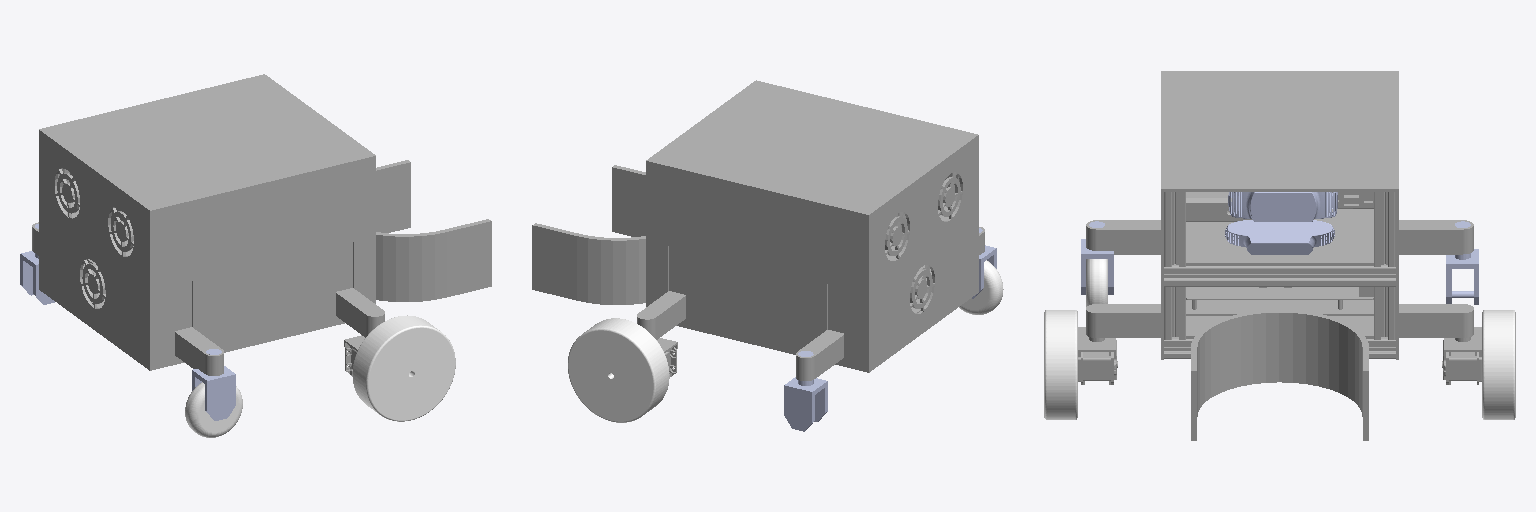
The robot description file, URDF, robot "4wheel_behindnowheel":
<?xml version="1.0" encoding="utf-8"?>
<!-- This URDF was automatically created by SolidWorks to URDF Exporter! Originally created by [author] ([email redacted]) 
     Commit Version: 1.5.1-0-g916b5db  Build Version: 1.5.7152.31018
     For more information, please see http://wiki.ros.org/sw_urdf_exporter -->
<robot
  name="4wheel_behindnowheel">
  <link
    name="base_link">
    <inertial>
      <origin
        xyz="-0.015791268345538 0.000885138044595091 0.0685678092687935"
        rpy="0 0 0" />
      <mass
        value="5.32485366509135" />
      <inertia
        ixx="0.0149048926646328"
        ixy="-1.47975198124448E-06"
        ixz="-8.06521337681199E-06"
        iyy="0.0219378727233068"
        iyz="-4.01751561827566E-06"
        izz="0.0232029020939231" />
    </inertial>
    <visual>
      <origin
        xyz="0 0 0"
        rpy="0 0 0" />
      <geometry>
        <mesh
          filename="package://4wheel_behindnowheel/meshes/base_link.STL" />
      </geometry>
      <material
        name="">
        <color
          rgba="0.752941176470588 0.752941176470588 0.752941176470588 1" />
      </material>
    </visual>
    <collision>
      <origin
        xyz="0 0 0"
        rpy="0 0 0" />
      <geometry>
        <mesh
          filename="package://4wheel_behindnowheel/meshes/base_link.STL" />
      </geometry>
    </collision>
  </link>
  <link
    name="right_front_suspension">
    <inertial>
      <origin
        xyz="0.072447 -0.031683 0.02534"
        rpy="0 0 0" />
      <mass
        value="0.26437" />
      <inertia
        ixx="3.2075E-05"
        ixy="1.4412E-07"
        ixz="6.3085E-08"
        iyy="6.227E-05"
        iyz="-2.0189E-07"
        izz="6.2852E-05" />
    </inertial>
    <visual>
      <origin
        xyz="0 0 0"
        rpy="0 0 0" />
      <geometry>
        <mesh
          filename="package://4wheel_behindnowheel/meshes/right_front_suspension.STL" />
      </geometry>
      <material
        name="">
        <color
          rgba="0.75294 0.75294 0.75294 1" />
      </material>
    </visual>
    <collision>
      <origin
        xyz="0 0 0"
        rpy="0 0 0" />
      <geometry>
        <mesh
          filename="package://4wheel_behindnowheel/meshes/right_front_suspension.STL" />
      </geometry>
    </collision>
  </link>
  <joint
    name="right_front_suspension"
    type="prismatic">
    <origin
      xyz="0.11437 -0.21292 0.036427"
      rpy="2.834 0 1.5708" />
    <parent
      link="base_link" />
    <child
      link="right_front_suspension" />
    <axis
      xyz="0 0.3028 -0.95305" />
    <limit
      lower="0"
      upper="0"
      effort="0"
      velocity="0" />
  </joint>
  <link
    name="right_front_wheel">
    <inertial>
      <origin
        xyz="0.014171 0 -2.7756E-17"
        rpy="0 0 0" />
      <mass
        value="0.23877" />
      <inertia
        ixx="0.00029907"
        ixy="2.5831E-24"
        ixz="-8.1395E-23"
        iyy="0.00016737"
        iyz="-2.5411E-21"
        izz="0.00016737" />
    </inertial>
    <visual>
      <origin
        xyz="0 0 0"
        rpy="0 0 0" />
      <geometry>
        <mesh
          filename="package://4wheel_behindnowheel/meshes/right_front_wheel.STL" />
      </geometry>
      <material
        name="">
        <color
          rgba="1 1 1 1" />
      </material>
    </visual>
    <collision>
      <origin
        xyz="0 0 0"
        rpy="0 0 0" />
      <geometry>
        <mesh
          filename="package://4wheel_behindnowheel/meshes/right_front_wheel.STL" />
      </geometry>
    </collision>
  </link>
  <joint
    name="right_front_wheel"
    type="continuous">
    <origin
      xyz="0 -0.028286 0.058405"
      rpy="-1.1911 0 0" />
    <parent
      link="right_front_suspension" />
    <child
      link="right_front_wheel" />
    <axis
      xyz="1 0 0" />
    <limit
      effort="3.1"
      velocity="7" />
  </joint>
  <link
    name="left_front_suspension">
    <inertial>
      <origin
        xyz="0.066688 -0.025617 0.027258"
        rpy="0 0 0" />
      <mass
        value="0.26437" />
      <inertia
        ixx="3.2075E-05"
        ixy="-1.4412E-07"
        ixz="-6.3085E-08"
        iyy="6.227E-05"
        iyz="-2.0189E-07"
        izz="6.2852E-05" />
    </inertial>
    <visual>
      <origin
        xyz="0 0 0"
        rpy="0 0 0" />
      <geometry>
        <mesh
          filename="package://4wheel_behindnowheel/meshes/left_front_suspension.STL" />
      </geometry>
      <material
        name="">
        <color
          rgba="0.75294 0.75294 0.75294 1" />
      </material>
    </visual>
    <collision>
      <origin
        xyz="0 0 0"
        rpy="0 0 0" />
      <geometry>
        <mesh
          filename="package://4wheel_behindnowheel/meshes/left_front_suspension.STL" />
      </geometry>
    </collision>
  </link>
  <joint
    name="left_front_suspension"
    type="prismatic">
    <origin
      xyz="0.075688 0.20716 0.036427"
      rpy="2.834 0 -1.5708" />
    <parent
      link="base_link" />
    <child
      link="left_front_suspension" />
    <axis
      xyz="0 0.3028 -0.95305" />
    <limit
      lower="0"
      upper="0"
      effort="0"
      velocity="0" />
  </joint>
  <link
    name="left_front_wheel">
    <inertial>
      <origin
        xyz="-0.008411 0 0"
        rpy="0 0 0" />
      <mass
        value="0.23877" />
      <inertia
        ixx="0.00029907"
        ixy="4.2358E-22"
        ixz="8.4804E-23"
        iyy="0.00016737"
        iyz="6.7763E-21"
        izz="0.00016737" />
    </inertial>
    <visual>
      <origin
        xyz="0 0 0"
        rpy="0 0 0" />
      <geometry>
        <mesh
          filename="package://4wheel_behindnowheel/meshes/left_front_wheel.STL" />
      </geometry>
      <material
        name="">
        <color
          rgba="1 1 1 1" />
      </material>
    </visual>
    <collision>
      <origin
        xyz="0 0 0"
        rpy="0 0 0" />
      <geometry>
        <mesh
          filename="package://4wheel_behindnowheel/meshes/left_front_wheel.STL" />
      </geometry>
    </collision>
  </link>
  <joint
    name="left_front_wheel"
    type="continuous">
    <origin
      xyz="0 -0.047479 0.052309"
      rpy="-2.076 0 3.1416" />
    <parent
      link="left_front_suspension" />
    <child
      link="left_front_wheel" />
    <axis
      xyz="1 0 0" />
    <limit
      effort="3.1"
      velocity="7" />
  </joint>
  <link
    name="right_back_suspension">
    <inertial>
      <origin
        xyz="0.075402 -0.0095357 -0.022201"
        rpy="0 0 0" />
      <mass
        value="0.19701" />
      <inertia
        ixx="1.688E-05"
        ixy="3.707E-21"
        ixz="-6.4068E-22"
        iyy="5.0218E-05"
        iyz="1.0509E-06"
        izz="4.7245E-05" />
    </inertial>
    <visual>
      <origin
        xyz="0 0 0"
        rpy="0 0 0" />
      <geometry>
        <mesh
          filename="package://4wheel_behindnowheel/meshes/right_back_suspension.STL" />
      </geometry>
      <material
        name="">
        <color
          rgba="0.75294 0.75294 0.75294 1" />
      </material>
    </visual>
    <collision>
      <origin
        xyz="0 0 0"
        rpy="0 0 0" />
      <geometry>
        <mesh
          filename="package://4wheel_behindnowheel/meshes/right_back_suspension.STL" />
      </geometry>
    </collision>
  </link>
  <joint
    name="right_back_suspension"
    type="prismatic">
    <origin
      xyz="-0.07269 -0.20716 -0.0087739"
      rpy="2.834 0 1.5708" />
    <parent
      link="base_link" />
    <child
      link="right_back_suspension" />
    <axis
      xyz="0 0.3028 -0.95305" />
    <limit
      lower="0"
      upper="0"
      effort="0"
      velocity="0" />
  </joint>
  <link
    name="right_back_caster">
    <inertial>
      <origin
        xyz="4.0063E-07 -0.0037032 0"
        rpy="0 0 0" />
      <mass
        value="0.020987" />
      <inertia
        ixx="7.3202E-06"
        ixy="2.1294E-10"
        ixz="4.3949E-23"
        iyy="3.6659E-06"
        iyz="-4.815E-22"
        izz="8.246E-06" />
    </inertial>
    <visual>
      <origin
        xyz="0 0 0"
        rpy="0 0 0" />
      <geometry>
        <mesh
          filename="package://4wheel_behindnowheel/meshes/right_back_caster.STL" />
      </geometry>
      <material
        name="">
        <color
          rgba="0.79216 0.81961 0.93333 1" />
      </material>
    </visual>
    <collision>
      <origin
        xyz="0 0 0"
        rpy="0 0 0" />
      <geometry>
        <mesh
          filename="package://4wheel_behindnowheel/meshes/right_back_caster.STL" />
      </geometry>
    </collision>
  </link>
  <joint
    name="right_back_caster"
    type="continuous">
    <origin
      xyz="0.0411609911350767 -0.0150684419408277 -0.004787494193096"
      rpy="-1.2631660489123 0 0" />
    <parent
      link="right_back_suspension" />
    <child
      link="right_back_caster" />
    <axis
      xyz="0 1 0" />
  </joint>
  <link
    name="right_back_wheel">
    <inertial>
      <origin
        xyz="1.2669E-05 0 0"
        rpy="0 0 0" />
      <mass
        value="0.052036" />
      <inertia
        ixx="2.1966E-05"
        ixy="-1.3475E-38"
        ixz="-2.3698E-38"
        iyy="1.254E-05"
        iyz="3.3403E-40"
        izz="1.254E-05" />
    </inertial>
    <visual>
      <origin
        xyz="0 0 0"
        rpy="0 0 0" />
      <geometry>
        <mesh
          filename="package://4wheel_behindnowheel/meshes/right_back_wheel.STL" />
      </geometry>
      <material
        name="">
        <color
          rgba="1 1 1 1" />
      </material>
    </visual>
    <collision>
      <origin
        xyz="0 0 0"
        rpy="0 0 0" />
      <geometry>
        <mesh
          filename="package://4wheel_behindnowheel/meshes/right_back_wheel.STL" />
      </geometry>
    </collision>
  </link>
  <joint
    name="right_back_wheel"
    type="continuous">
    <origin
      xyz="0 -0.029028 0"
      rpy="0 0 0" />
    <parent
      link="right_back_caster" />
    <child
      link="right_back_wheel" />
    <axis
      xyz="1 0 0" />
  </joint>
  <link
    name="left_back_suspension">
    <inertial>
      <origin
        xyz="0.075402 -0.0095357 -0.022201"
        rpy="0 0 0" />
      <mass
        value="0.19701" />
      <inertia
        ixx="1.688E-05"
        ixy="1.1945E-20"
        ixz="1.0411E-20"
        iyy="5.0218E-05"
        iyz="1.0509E-06"
        izz="4.7245E-05" />
    </inertial>
    <visual>
      <origin
        xyz="0 0 0"
        rpy="0 0 0" />
      <geometry>
        <mesh
          filename="package://4wheel_behindnowheel/meshes/left_back_suspension.STL" />
      </geometry>
      <material
        name="">
        <color
          rgba="0.75294 0.75294 0.75294 1" />
      </material>
    </visual>
    <collision>
      <origin
        xyz="0 0 0"
        rpy="0 0 0" />
      <geometry>
        <mesh
          filename="package://4wheel_behindnowheel/meshes/left_back_suspension.STL" />
      </geometry>
    </collision>
  </link>
  <joint
    name="left_back_suspension"
    type="prismatic">
    <origin
      xyz="-0.10431 0.20716 -0.0087739"
      rpy="2.834 0 -1.5708" />
    <parent
      link="base_link" />
    <child
      link="left_back_suspension" />
    <axis
      xyz="0 0.3028 -0.95305" />
    <limit
      lower="0"
      upper="0"
      effort="0"
      velocity="0" />
  </joint>
  <link
    name="left_back_caster">
    <inertial>
      <origin
        xyz="3.6952E-07 -0.010637 0"
        rpy="0 0 0" />
      <mass
        value="0.022754" />
      <inertia
        ixx="9.8996E-06"
        ixy="2.3871E-10"
        ixz="-3.9352E-22"
        iyy="3.7156E-06"
        iyz="4.2404E-22"
        izz="1.0825E-05" />
    </inertial>
    <visual>
      <origin
        xyz="0 0 0"
        rpy="0 0 0" />
      <geometry>
        <mesh
          filename="package://4wheel_behindnowheel/meshes/left_back_caster.STL" />
      </geometry>
      <material
        name="">
        <color
          rgba="0.79216 0.81961 0.93333 1" />
      </material>
    </visual>
    <collision>
      <origin
        xyz="0 0 0"
        rpy="0 0 0" />
      <geometry>
        <mesh
          filename="package://4wheel_behindnowheel/meshes/left_back_caster.STL" />
      </geometry>
    </collision>
  </link>
  <joint
    name="left_back_caster"
    type="continuous">
    <origin
      xyz="0.0411609911350767 -0.0150684419408277 -0.00478749419309602"
      rpy="-1.87842660467749 0 3.14159265358979" />
    <parent
      link="left_back_suspension" />
    <child
      link="left_back_caster" />
    <axis
      xyz="0 1 0" />
  </joint>
  <link
    name="left_back_wheel">
    <inertial>
      <origin
        xyz="1.2669E-05 0 0"
        rpy="0 0 0" />
      <mass
        value="0.052036" />
      <inertia
        ixx="2.1966E-05"
        ixy="-1.3475E-38"
        ixz="-2.3698E-38"
        iyy="1.254E-05"
        iyz="3.3403E-40"
        izz="1.254E-05" />
    </inertial>
    <visual>
      <origin
        xyz="0 0 0"
        rpy="0 0 0" />
      <geometry>
        <mesh
          filename="package://4wheel_behindnowheel/meshes/left_back_wheel.STL" />
      </geometry>
      <material
        name="">
        <color
          rgba="1 1 1 1" />
      </material>
    </visual>
    <collision>
      <origin
        xyz="0 0 0"
        rpy="0 0 0" />
      <geometry>
        <mesh
          filename="package://4wheel_behindnowheel/meshes/left_back_wheel.STL" />
      </geometry>
    </collision>
  </link>
  <joint
    name="left_back_wheel"
    type="continuous">
    <origin
      xyz="0 -0.0390282868227122 0"
      rpy="0 0 0" />
    <parent
      link="left_back_caster" />
    <child
      link="left_back_wheel" />
    <axis
      xyz="1 0 0" />
  </joint>
  <link
    name="cam1">
    <inertial>
      <origin
        xyz="0.049836 0.061784 0.068723"
        rpy="0 0 0" />
      <mass
        value="0.043612" />
      <inertia
        ixx="4.2948E-06"
        ixy="-8.8548E-10"
        ixz="-1.0183E-09"
        iyy="2.2106E-05"
        iyz="2.1758E-08"
        izz="2.3571E-05" />
    </inertial>
    <visual>
      <origin
        xyz="0 0 0"
        rpy="0 0 0" />
      <geometry>
        <mesh
          filename="package://4wheel_behindnowheel/meshes/cam1.STL" />
      </geometry>
      <material
        name="">
        <color
          rgba="0.79216 0.81961 0.93333 1" />
      </material>
    </visual>
    <collision>
      <origin
        xyz="0 0 0"
        rpy="0 0 0" />
      <geometry>
        <mesh
          filename="package://4wheel_behindnowheel/meshes/cam1.STL" />
      </geometry>
    </collision>
  </link>
  <joint
    name="cam1"
    type="fixed">
    <origin
      xyz="0.022219 -0.049835 0.11022"
      rpy="2.3562 0 1.5708" />
    <parent
      link="base_link" />
    <child
      link="cam1" />
    <axis
      xyz="0 0 0" />
  </joint>
  <link
    name="cam2">
    <inertial>
      <origin
        xyz="0.051723 0.061784 0.068723"
        rpy="0 0 0" />
      <mass
        value="0.043612" />
      <inertia
        ixx="4.2948E-06"
        ixy="-8.8579E-10"
        ixz="-1.0181E-09"
        iyy="2.2106E-05"
        iyz="2.1758E-08"
        izz="2.3571E-05" />
    </inertial>
    <visual>
      <origin
        xyz="0 0 0"
        rpy="0 0 0" />
      <geometry>
        <mesh
          filename="package://4wheel_behindnowheel/meshes/cam2.STL" />
      </geometry>
      <material
        name="">
        <color
          rgba="0.79216 0.81961 0.93333 1" />
      </material>
    </visual>
    <collision>
      <origin
        xyz="0 0 0"
        rpy="0 0 0" />
      <geometry>
        <mesh
          filename="package://4wheel_behindnowheel/meshes/cam2.STL" />
      </geometry>
    </collision>
  </link>
  <joint
    name="cam2"
    type="prismatic">
    <origin
      xyz="0.046422 -0.048745 0.079504"
      rpy="1.5708 0 1.5708" />
    <parent
      link="base_link" />
    <child
      link="cam2" />
    <axis
      xyz="1 0 0" />
    <limit
      lower="0"
      upper="0"
      effort="0"
      velocity="0" />
  </joint>
  <link
    name="lidar">
    <inertial>
      <origin
        xyz="-0.077156 0.74443 -0.036403"
        rpy="0 0 0" />
      <mass
        value="0.073085" />
      <inertia
        ixx="1.9581E-05"
        ixy="-4.2839E-07"
        ixz="1.0393E-07"
        iyy="4.1418E-05"
        iyz="-9.4271E-09"
        izz="2.4125E-05" />
    </inertial>
    <visual>
      <origin
        xyz="0 0 0"
        rpy="0 0 0" />
      <geometry>
        <mesh
          filename="package://4wheel_behindnowheel/meshes/lidar.STL" />
      </geometry>
      <material
        name="">
        <color
          rgba="0.79216 0.81961 0.93333 1" />
      </material>
    </visual>
    <collision>
      <origin
        xyz="0 0 0"
        rpy="0 0 0" />
      <geometry>
        <mesh
          filename="package://4wheel_behindnowheel/meshes/lidar.STL" />
      </geometry>
    </collision>
  </link>
  <joint
    name="lidar"
    type="prismatic">
    <origin
      xyz="0.0019925 0.032539 -0.56169"
      rpy="1.5708 0 -3.1337" />
    <parent
      link="base_link" />
    <child
      link="lidar" />
    <axis
      xyz="0.0078706 0 -0.99997" />
    <limit
      lower="0"
      upper="0"
      effort="0"
      velocity="0" />
  </joint>
</robot>

--- Facts derived from the render (not from the file) ---
3 views of the same robot in one strip: view 1: azimuth 30°, elevation 25°; view 2: azimuth 150°, elevation 25°; view 3: azimuth 270°, elevation 25° (orthographic).
Robot: 4wheel_behindnowheel — 14 links, 13 joints (6 continuous, 6 prismatic, 1 fixed); root link base_link; default pose: all joints at 0.
Links seen in each view (by area): view 1: base_link, right_front_wheel, right_front_suspension, right_back_caster, right_back_suspension, right_back_wheel, left_back_caster; view 2: base_link, left_front_wheel, left_back_caster, left_front_suspension, left_back_suspension, right_back_wheel; view 3: base_link, right_front_suspension, left_front_suspension, right_front_wheel, left_front_wheel, cam1, cam2, left_back_suspension, right_back_suspension, left_back_caster, right_back_wheel, right_back_caster.
Link boxes in pixels (x1=…): base_link: x1=39, y1=74, x2=491, y2=370; right_front_wheel: x1=352, y1=315, x2=455, y2=421; right_front_suspension: x1=336, y1=288, x2=384, y2=375; right_back_caster: x1=192, y1=349, x2=235, y2=420; right_back_suspension: x1=175, y1=327, x2=223, y2=375; right_back_wheel: x1=185, y1=382, x2=242, y2=437; left_back_caster: x1=20, y1=224, x2=54, y2=304; base_link: x1=532, y1=80, x2=978, y2=372; left_front_wheel: x1=568, y1=318, x2=669, y2=422; left_back_caster: x1=784, y1=351, x2=827, y2=431; left_front_suspension: x1=637, y1=291, x2=685, y2=376; left_back_suspension: x1=796, y1=330, x2=843, y2=380; right_back_wheel: x1=959, y1=260, x2=1003, y2=314; base_link: x1=1161, y1=71, x2=1398, y2=440; right_front_suspension: x1=1078, y1=304, x2=1160, y2=384; left_front_suspension: x1=1399, y1=304, x2=1481, y2=384; right_front_wheel: x1=1044, y1=310, x2=1077, y2=419; left_front_wheel: x1=1482, y1=310, x2=1515, y2=419; cam1: x1=1225, y1=220, x2=1334, y2=254; cam2: x1=1228, y1=192, x2=1337, y2=221; left_back_suspension: x1=1399, y1=220, x2=1473, y2=254; right_back_suspension: x1=1086, y1=220, x2=1160, y2=254; left_back_caster: x1=1446, y1=221, x2=1478, y2=304; right_back_wheel: x1=1086, y1=259, x2=1107, y2=306; right_back_caster: x1=1081, y1=221, x2=1113, y2=294.
Bounding box of the posed robot: 0.3973 × 0.4275 × 0.2358 m (x, y, z).
Meshes: 14 distinct files referenced, 12 mesh visuals loaded (12 binary STL); not drawn: 2 (reference not matched to a file when rendering).